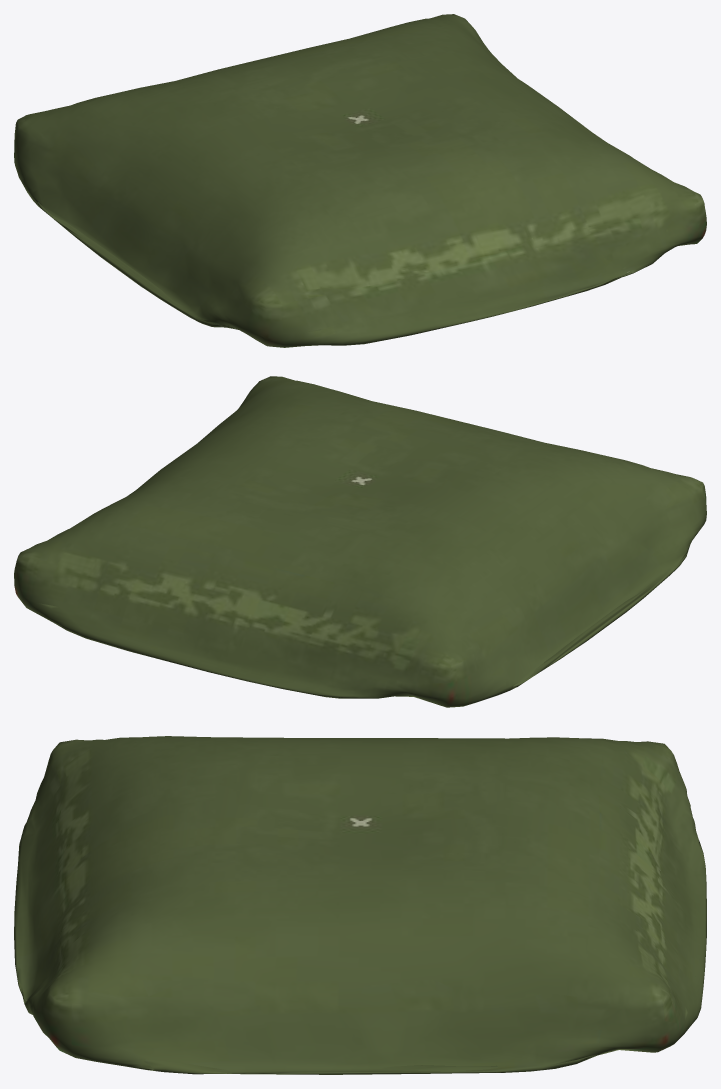
The model's file is zabuton_moss.glb.
3 views of the same model, one above another, from view 1: azimuth 30°, elevation 25°; view 2: azimuth 150°, elevation 25°; view 3: azimuth 270°, elevation 25° (orthographic). The views are drawn at different scales.
Visible parts, largest first — view 1: prop_zabuton_moss_felt; view 2: prop_zabuton_moss_felt; view 3: prop_zabuton_moss_felt.
Part boxes in pixels (x1=…): prop_zabuton_moss_felt: x1=14, y1=14, x2=706, y2=347; prop_zabuton_moss_felt: x1=14, y1=376, x2=706, y2=707; prop_zabuton_moss_felt: x1=14, y1=736, x2=706, y2=1074.
Bounding box in the file's own units: 1.16 × 0.2226 × 1.18.
Materials: 1 (1 with a texture image).
